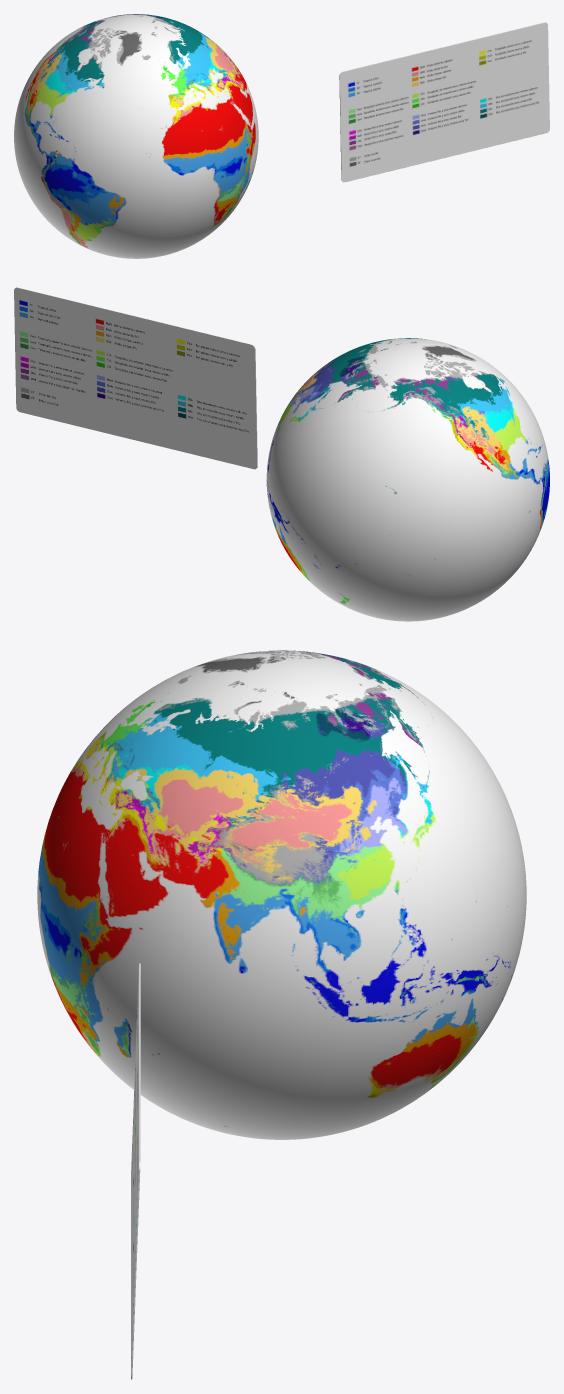
The model's file is clima.glb.
The picture shows the model from 3 angles, top to bottom: view 1: azimuth 30°, elevation 25°; view 2: azimuth 150°, elevation 25°; view 3: azimuth 270°, elevation 25°; orthographic projection. The views are drawn at different scales.
Parts seen in each view (by area): view 1: Object_3, Object_4; view 2: Object_3, Object_4; view 3: Object_3, Object_4.
Boxes of the visible parts, left/top/right/bottom form: Object_3: left=14, top=14, right=258, bottom=258; Object_4: left=339, top=22, right=549, bottom=182; Object_3: left=266, top=338, right=549, bottom=621; Object_4: left=14, top=287, right=257, bottom=469; Object_3: left=37, top=650, right=526, bottom=1139; Object_4: left=131, top=963, right=140, bottom=1379.
Size of what is drawn, in the model's own units: 0.7579 by 0.3333 by 0.3332.
Materials: 2 (2 with a texture image).
